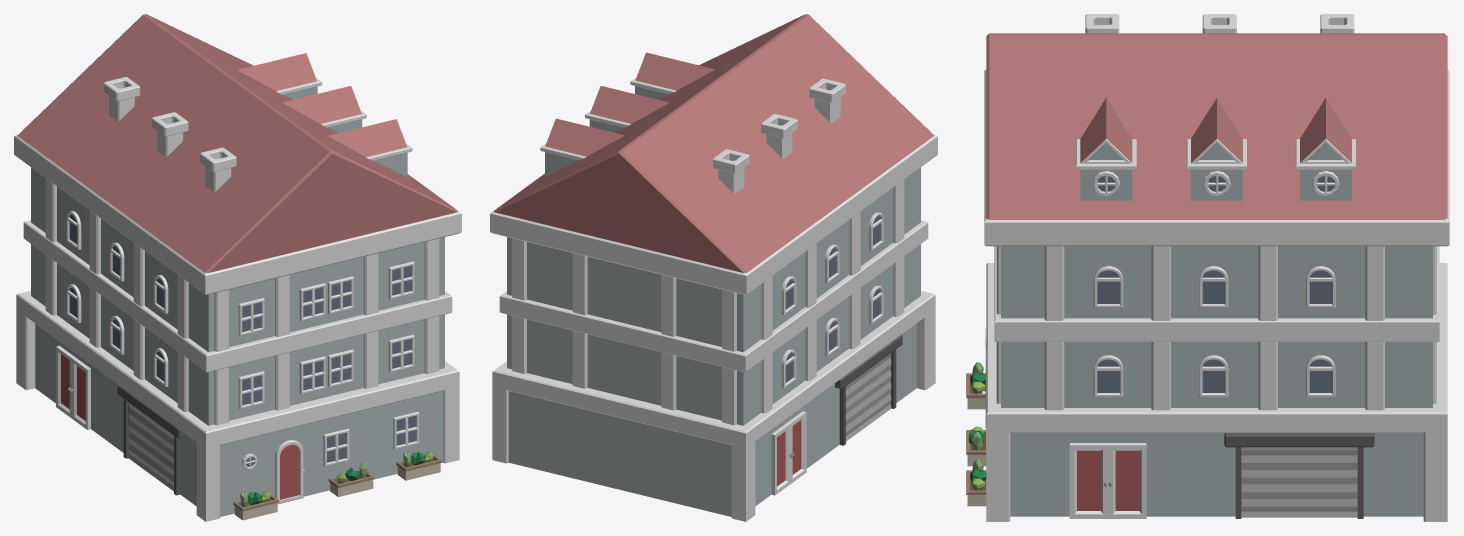
File: casa_3_alturas_b.fbx
3 renders of one model, left to right at view 1: azimuth 30°, elevation 25°; view 2: azimuth 150°, elevation 25°; view 3: azimuth 270°, elevation 25°, orthographic. The views are drawn at different scales.
Visible parts, largest first — view 1: CASA_3_alturas_b, pCube161, pCube163, puerta_8, pCube162, pCube164, pCube149, pCube152, pCube151, pCube150, puerta_7, pCube146 (+25 smaller); view 2: CASA_3_alturas_b, pCube161, pCube164, puerta_8, pCube163, pCube162, pCube154, pCube155, pCube153, pCube156, pCube147, pCube148 (+7 smaller); view 3: CASA_3_alturas_b, pCube169, puerta_9, pCube163, pCube162, pCube164, pCube168, pCube166, pCube167, pCube165, ventana_81, ventana_80 (+14 smaller).
Boxes of the visible parts, x1,y1,x2,y2 form: CASA_3_alturas_b: (14,14,461,521); pCube161: (117,384,184,495); pCube163: (328,119,412,176); puerta_8: (56,345,90,429); pCube162: (282,86,366,132); pCube164: (237,53,322,99); pCube149: (214,290,229,425); pCube152: (424,238,439,373); pCube151: (363,253,378,388); pCube150: (275,275,289,410); puerta_7: (275,440,304,504); pCube146: (89,210,100,347); CASA_3_alturas_b: (490,14,937,521); pCube161: (835,334,902,445); pCube164: (540,118,624,176); puerta_8: (771,411,806,495); pCube163: (630,52,714,99); pCube162: (585,86,669,132); pCube154: (661,274,676,410); pCube155: (572,253,587,388); pCube153: (722,289,736,425); pCube156: (512,238,526,373); pCube147: (849,211,860,348); pCube148: (893,180,904,316); CASA_3_alturas_b: (984,33,1449,521); pCube169: (1224,433,1374,518); puerta_9: (1069,443,1146,518); pCube163: (1076,97,1136,200); pCube162: (1186,98,1246,200); pCube164: (1295,98,1355,200); pCube168: (1044,246,1064,410); pCube166: (1258,246,1277,410); pCube167: (1151,246,1170,410); pCube165: (1365,246,1384,410); ventana_81: (1093,266,1123,307); ventana_80: (1093,355,1123,396).
Size of the model in its own units: 1032 by 1302 by 1383.
